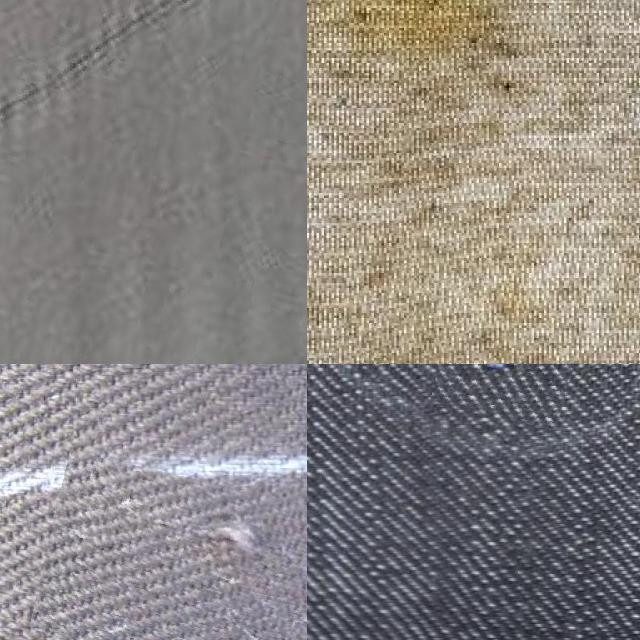stains: (36, 475, 307, 640), (437, 364, 580, 423)
